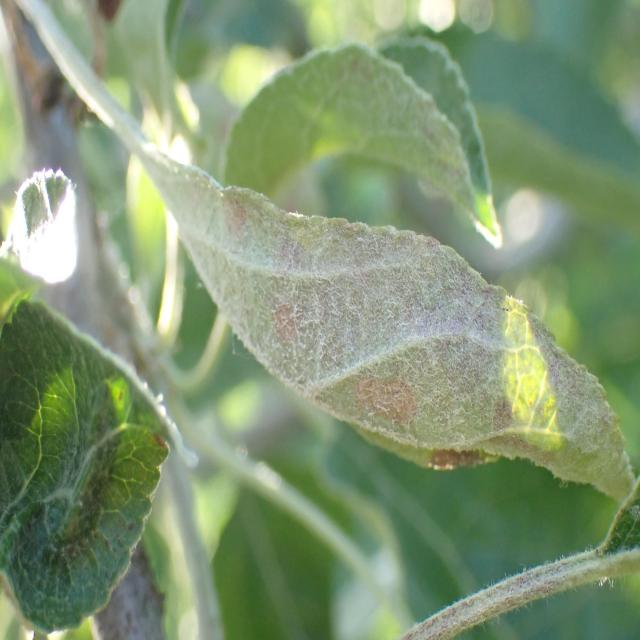Powdery_mildew: (114, 80, 640, 517)
